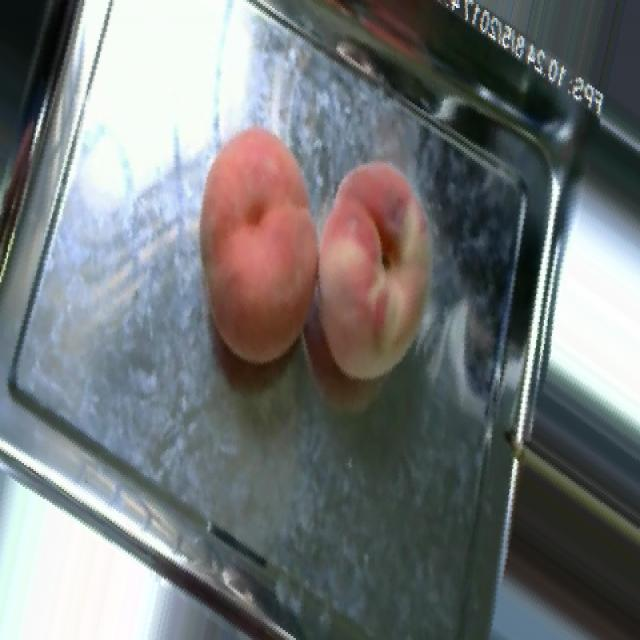Fruit: (164, 108, 327, 388), (303, 143, 453, 400)
